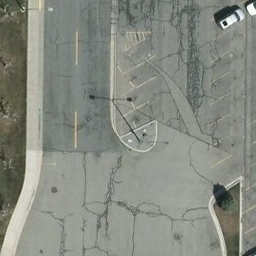car: (217, 5, 247, 30)
